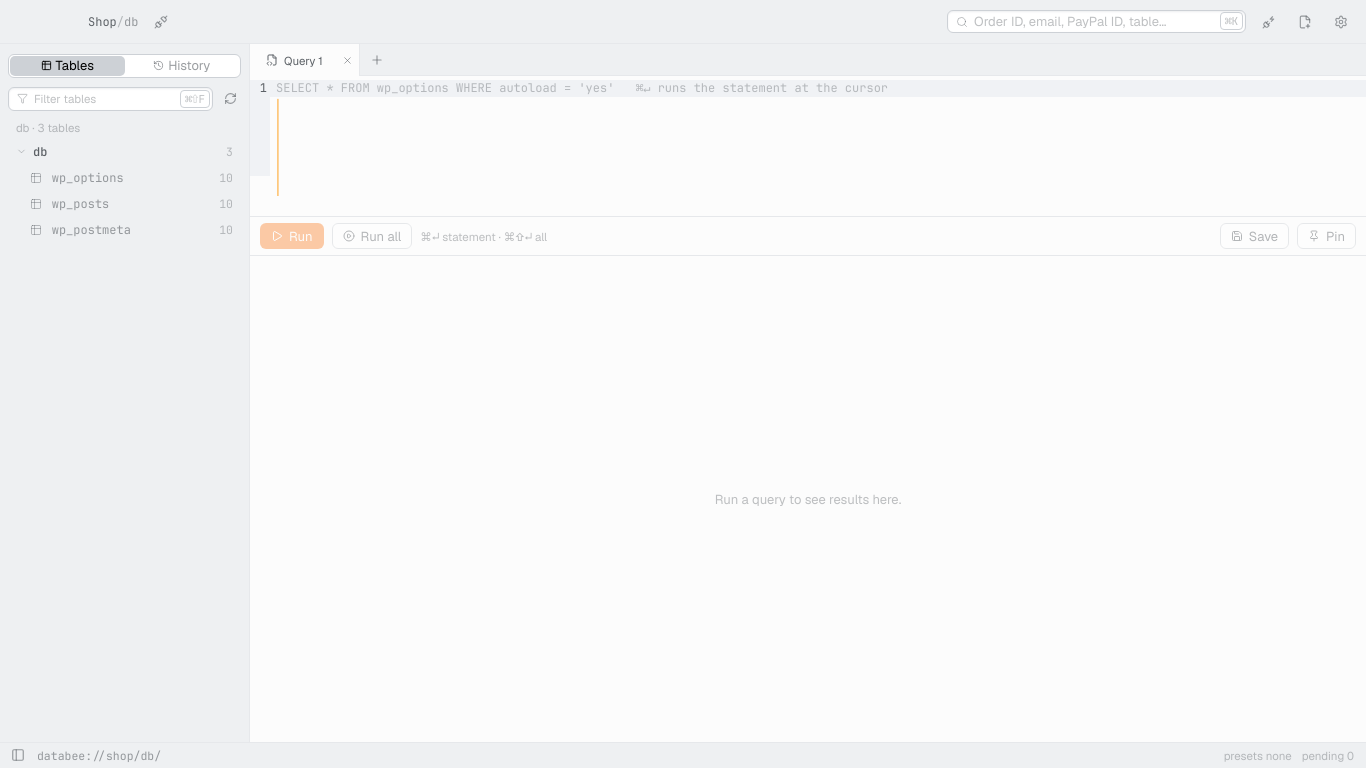
App › sidebar toggle › hides the sidebar from the status bar button
Click the button named "Toggle sidebar" at (16, 756), box [5, 746, 27, 766]
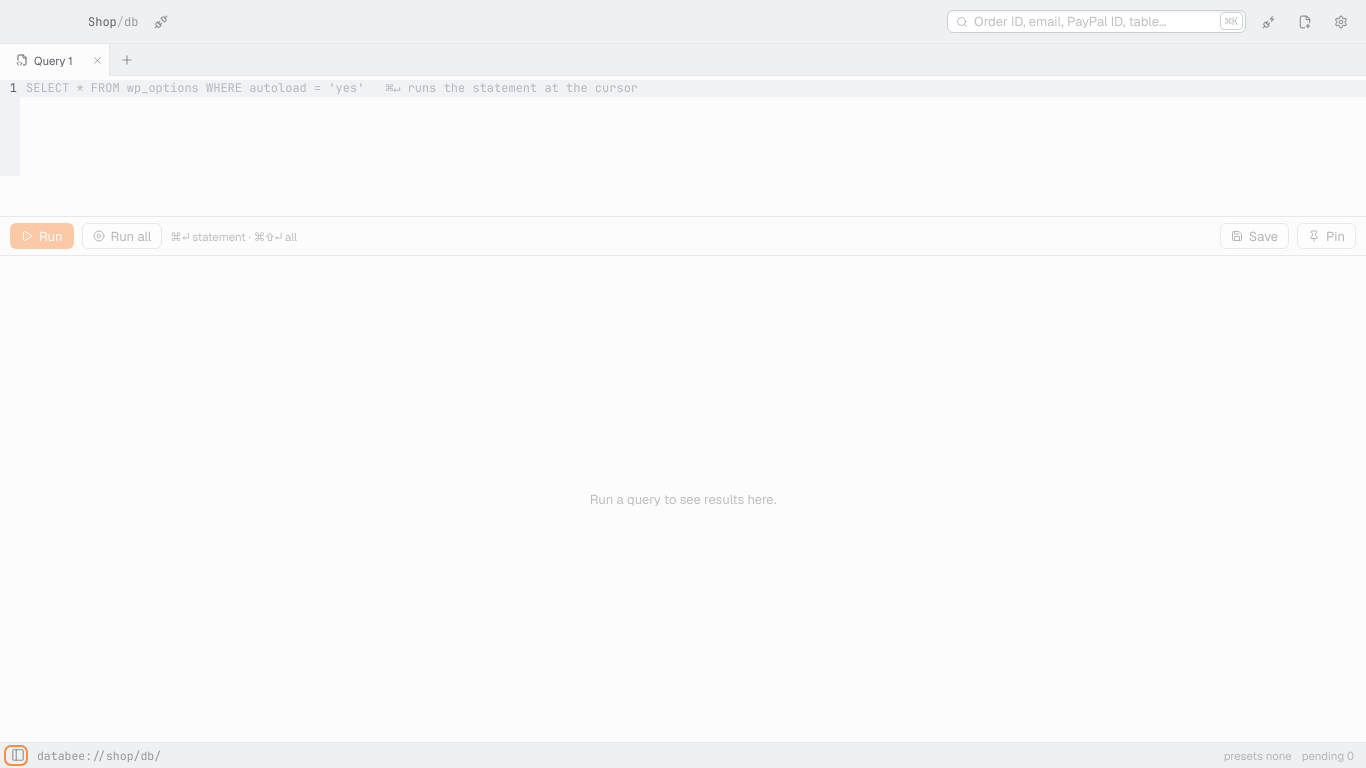
Expected: the list item "Databases" is gone
